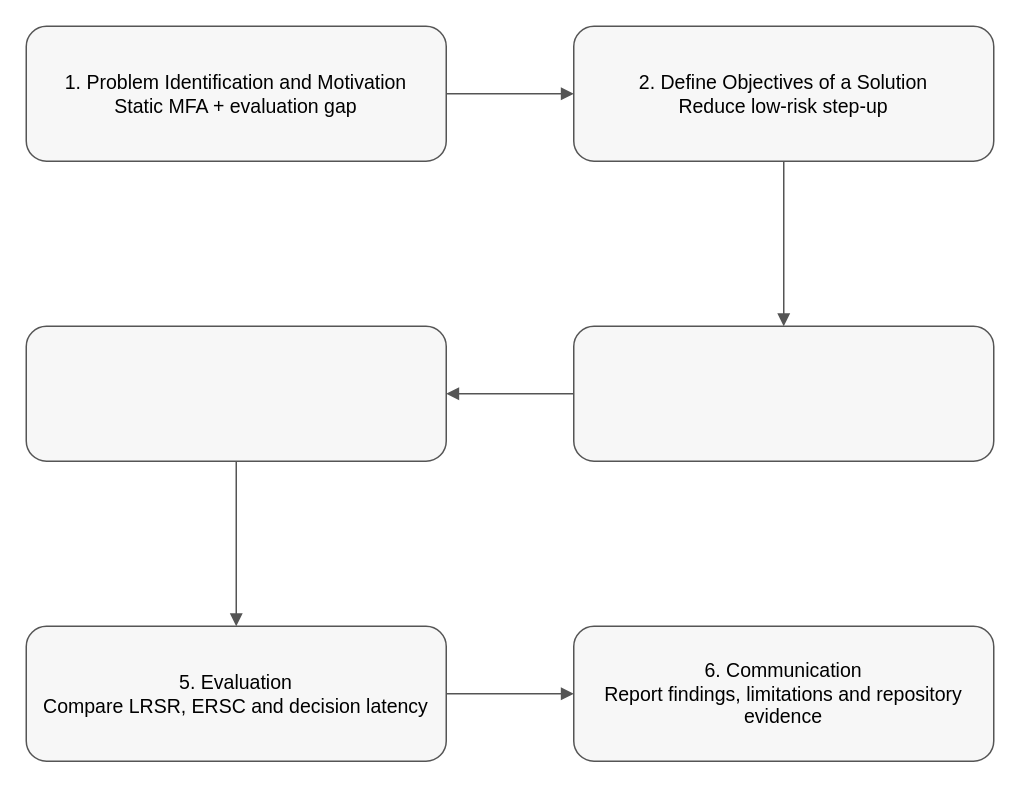
Some shapes in this 1020 by 788 pixel diagram are drawn without their labels. Here are the shapes that lost their labels. From the top down, the centre of each, then its label:
At (235,393): "4. Demonstration Run controlled authentication scenarios".
At (783,393): "3. Design and Development Build adaptive MFA prototype".
